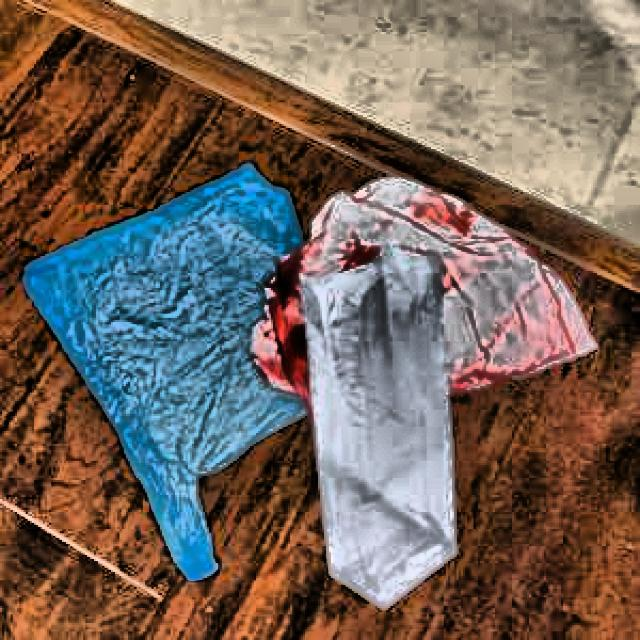Plastic: (35, 151, 392, 589), (295, 241, 475, 607)
